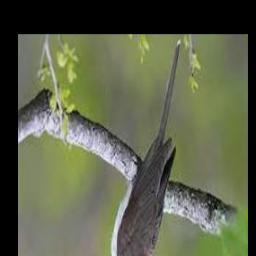Cuckoo: (103, 41, 181, 256)
